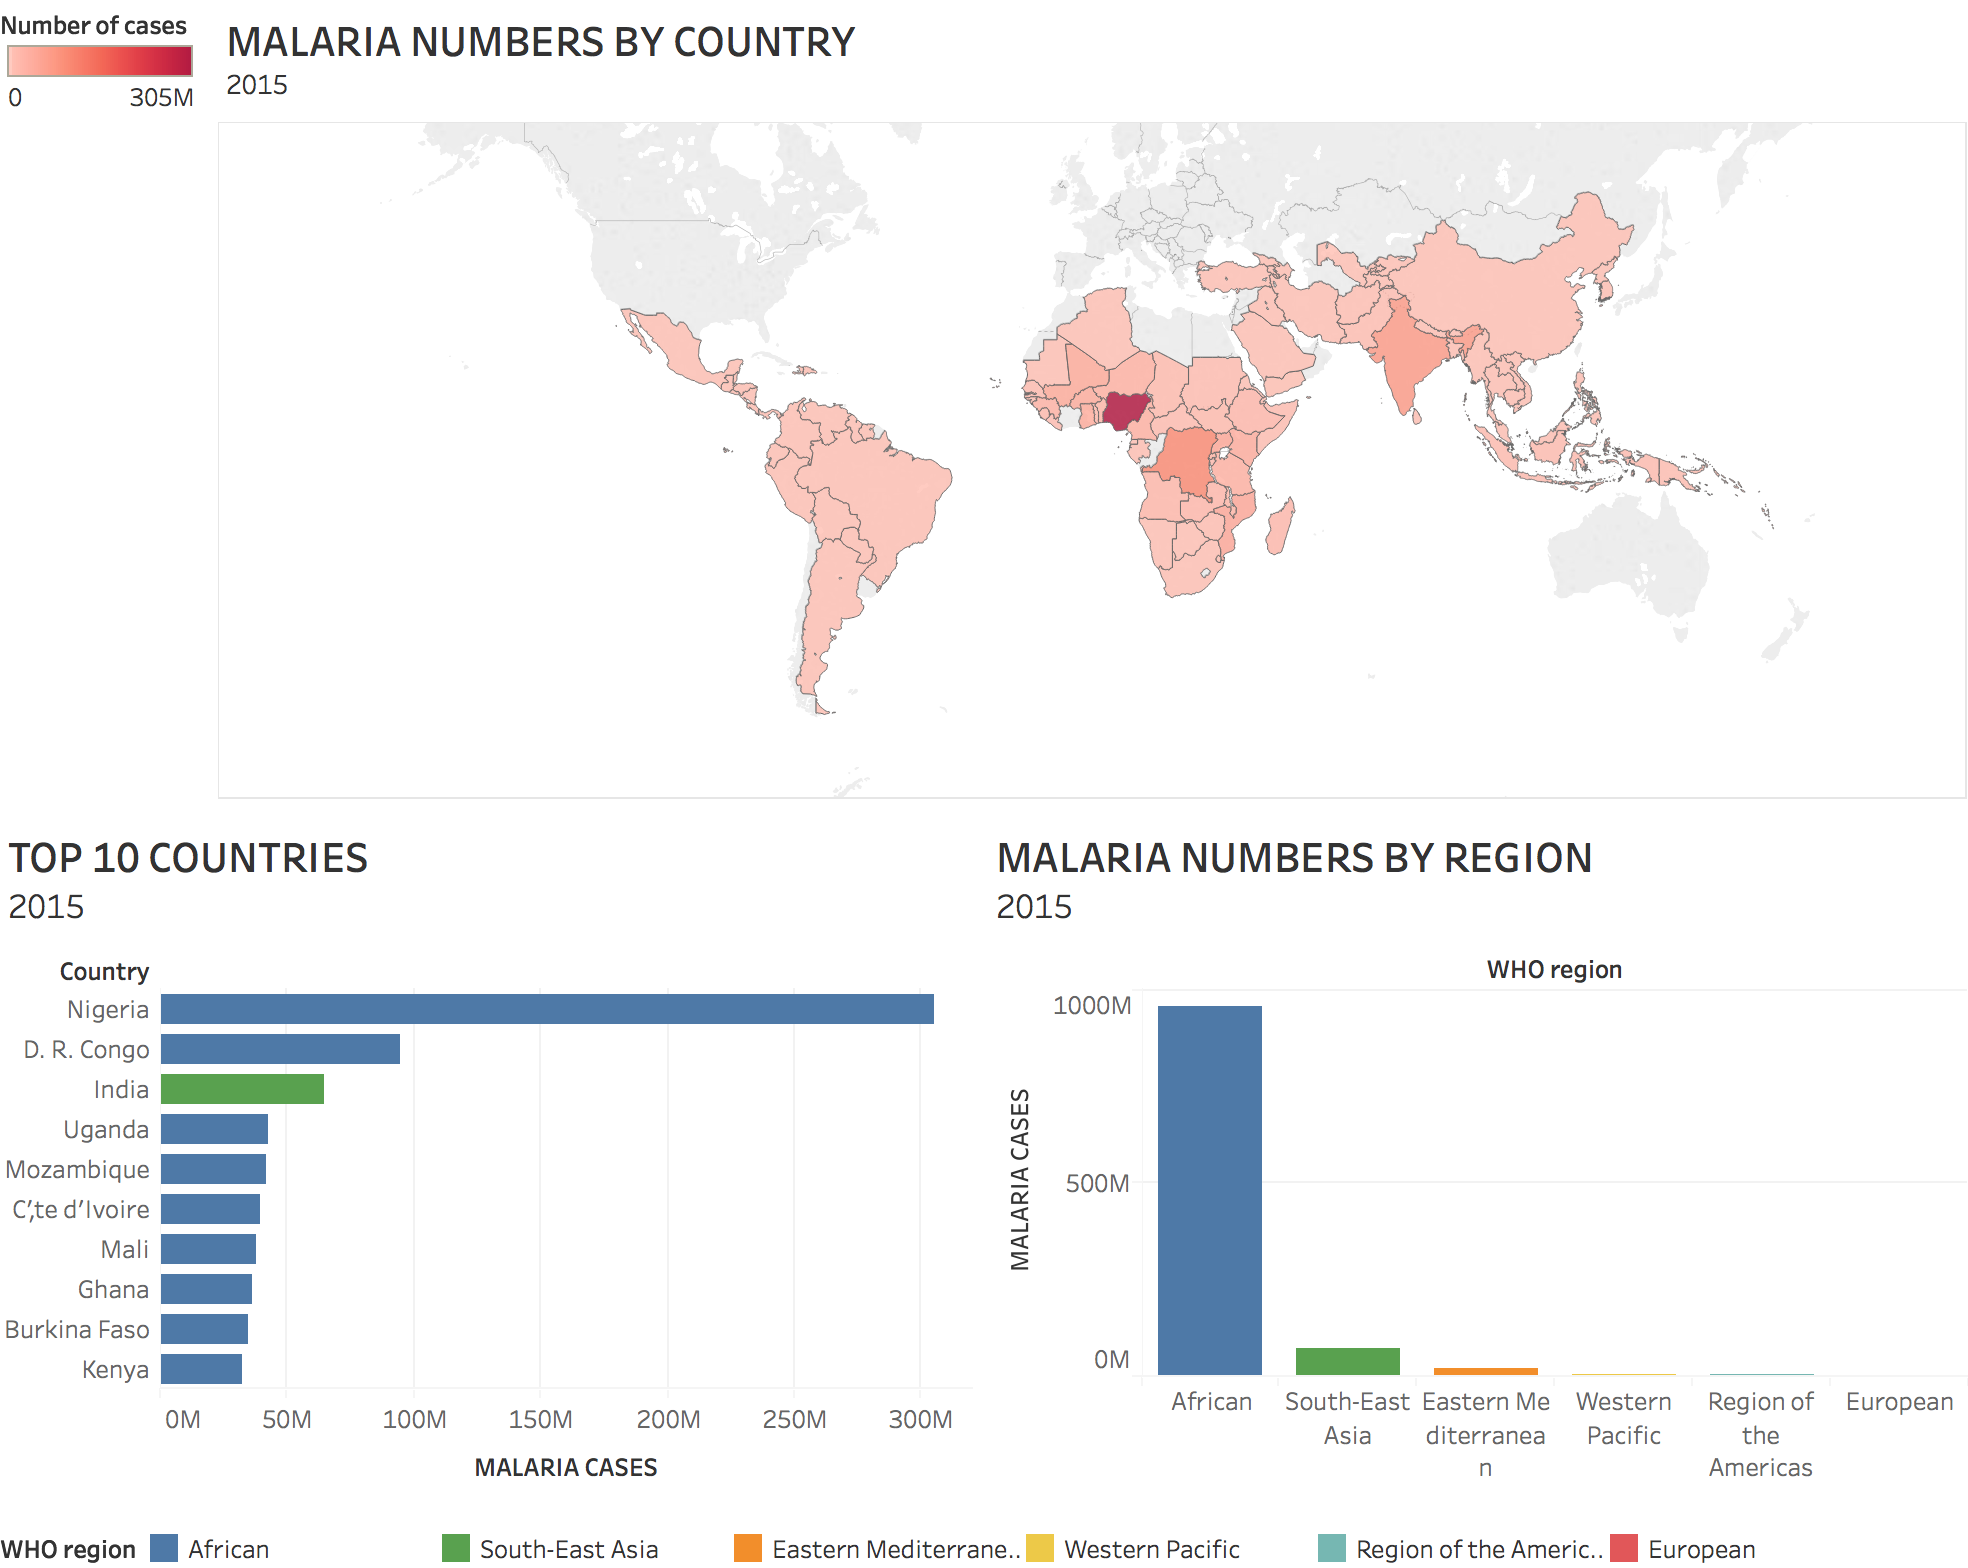

This screenshot's page, from the dashboard's own definition file:
{"tool":"tableau","page":{"name":"Dashboard 1","canvas":[1000,800],"ordinal":0},"visuals":[{"type":"legend","title":"Sheet 1","param":"[federated.0tj8wf51snrsmi12ofu6d1w99ebb].[sum:Suspected_malaria_cases:qk]","box":[0,0,113,412]},{"type":"worksheet","title":"Sheet 1","mark":"Automatic","box":[113,0,883,412]},{"type":"worksheet","title":"Sheet 2","mark":"Automatic","rows":["Country"],"cols":["Suspected_malaria_cases"],"box":[0,412,498,356]},{"type":"worksheet","title":"Sheet 3","mark":"Automatic","rows":["Suspected_malaria_cases"],"cols":["WHO_region"],"box":[498,412,498,356]},{"type":"legend","title":"Sheet 3","param":"[federated.0tj8wf51snrsmi12ofu6d1w99ebb].[none:WHO_region:nk]","box":[0,768,1000,32]}]}

Visuals, with their boxes in screenshot pixels (x1, y1, x2, y2), scaled from the page's 1000x800 canvas onto the 1968x1568 screenshot:
"Sheet 1" legend: Rect(0, 0, 222, 808)
"Sheet 1" worksheet: Rect(222, 0, 1960, 808)
"Sheet 2" worksheet: Rect(0, 808, 980, 1505)
"Sheet 3" worksheet: Rect(980, 808, 1960, 1505)
"Sheet 3" legend: Rect(0, 1505, 1967, 1567)
